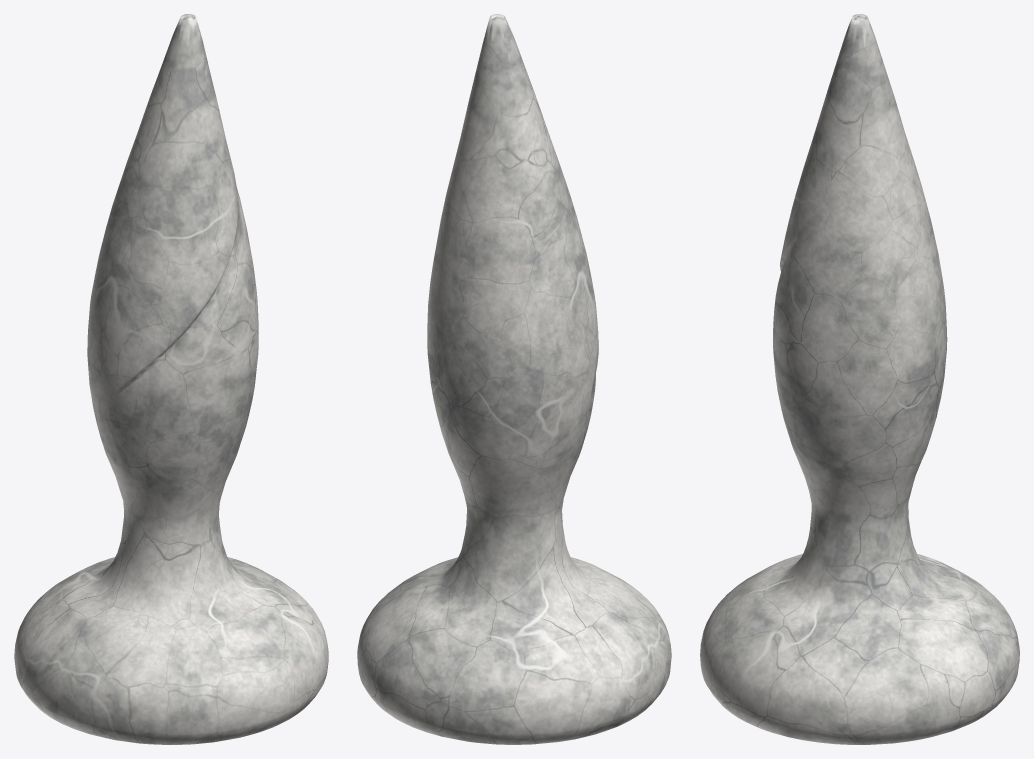
Rendered from bishop-white.glb.
The picture shows the model from 3 angles, left to right: view 1: azimuth 30°, elevation 25°; view 2: azimuth 150°, elevation 25°; view 3: azimuth 270°, elevation 25°; orthographic projection.
Visible parts, largest first — view 1: Serpentina_bishop_white; view 2: Serpentina_bishop_white; view 3: Serpentina_bishop_white.
Boxes of the visible parts, x1,y1,x2,y2 form: Serpentina_bishop_white: [14, 14, 328, 744]; Serpentina_bishop_white: [357, 14, 671, 744]; Serpentina_bishop_white: [700, 14, 1019, 744].
Size of the model in its own units: 0.6349 by 1.48 by 0.6356.
Materials: 1 (1 with a texture image).
